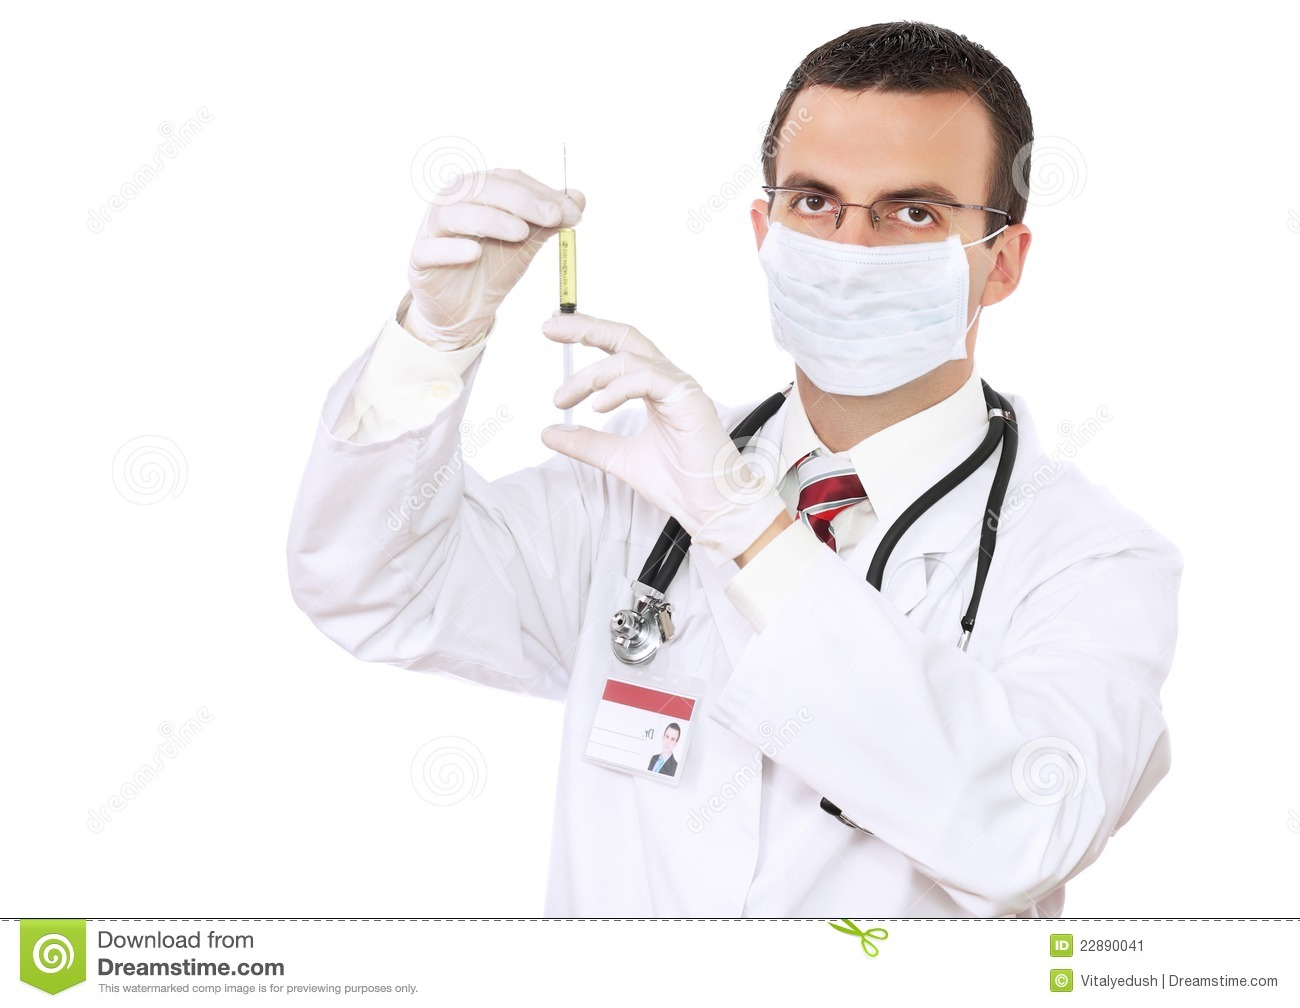mask: (758, 232, 978, 383)
